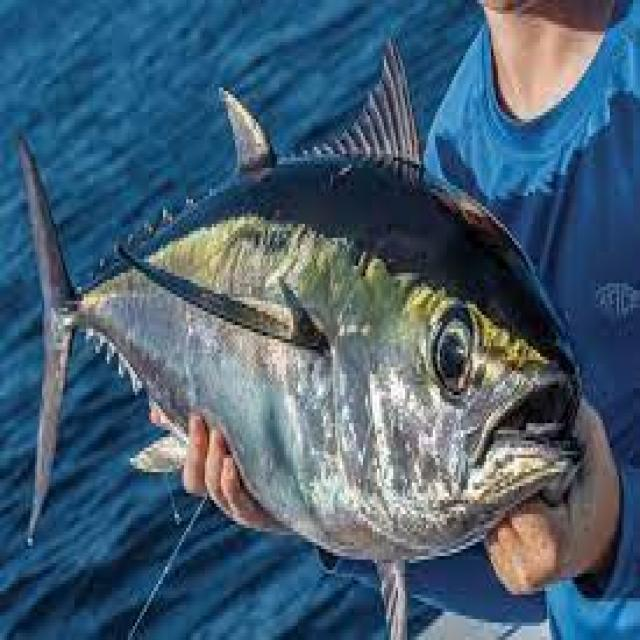Black Fin Tuna: (16, 31, 586, 636)
